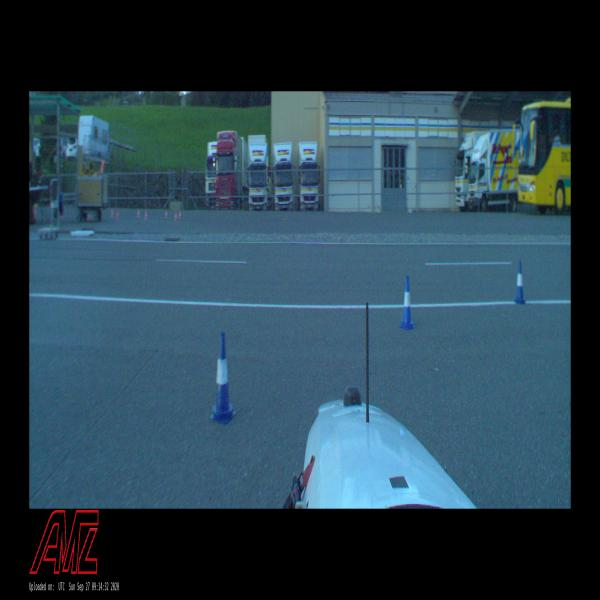blue_cone: (209, 331, 237, 424), (399, 276, 416, 331), (514, 261, 526, 304)
